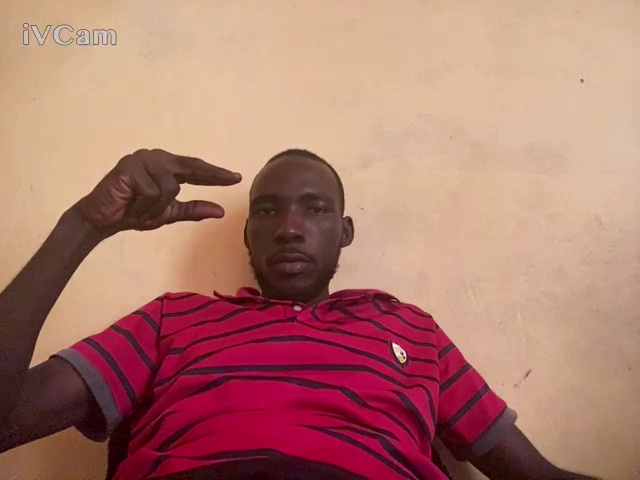non: (70, 142, 243, 239)
